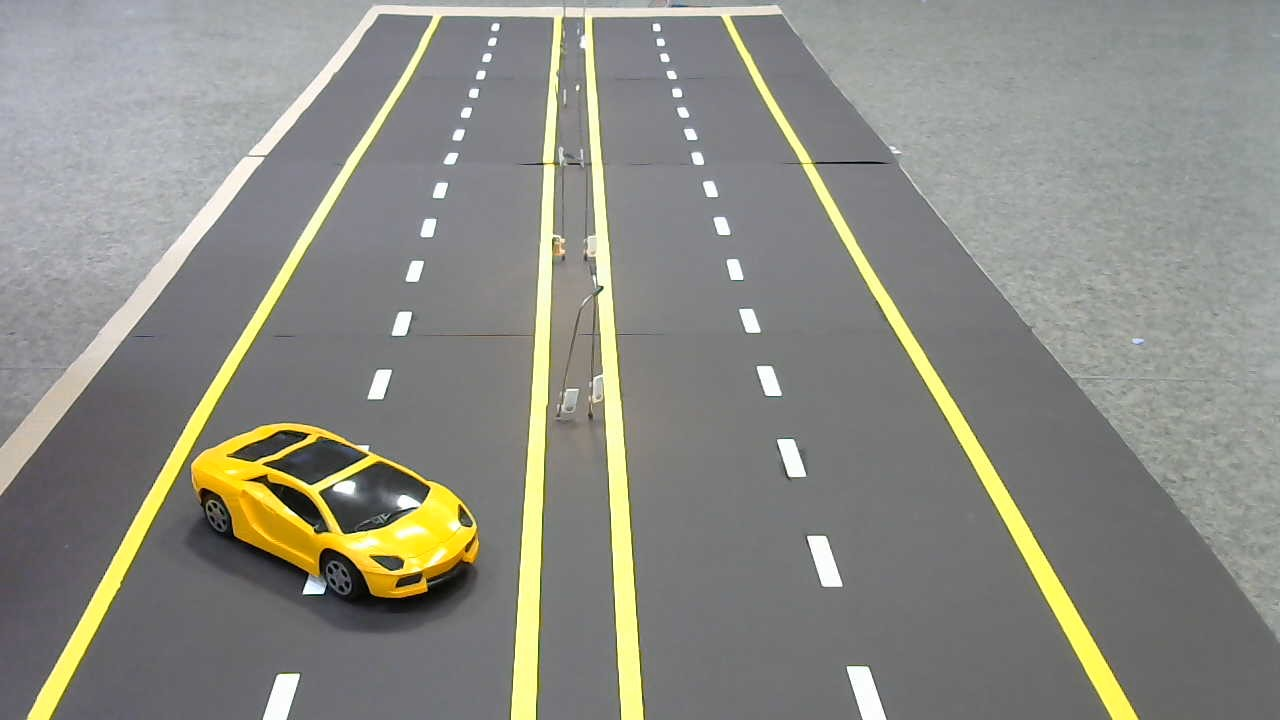overturn_car: (187, 414, 482, 612)
